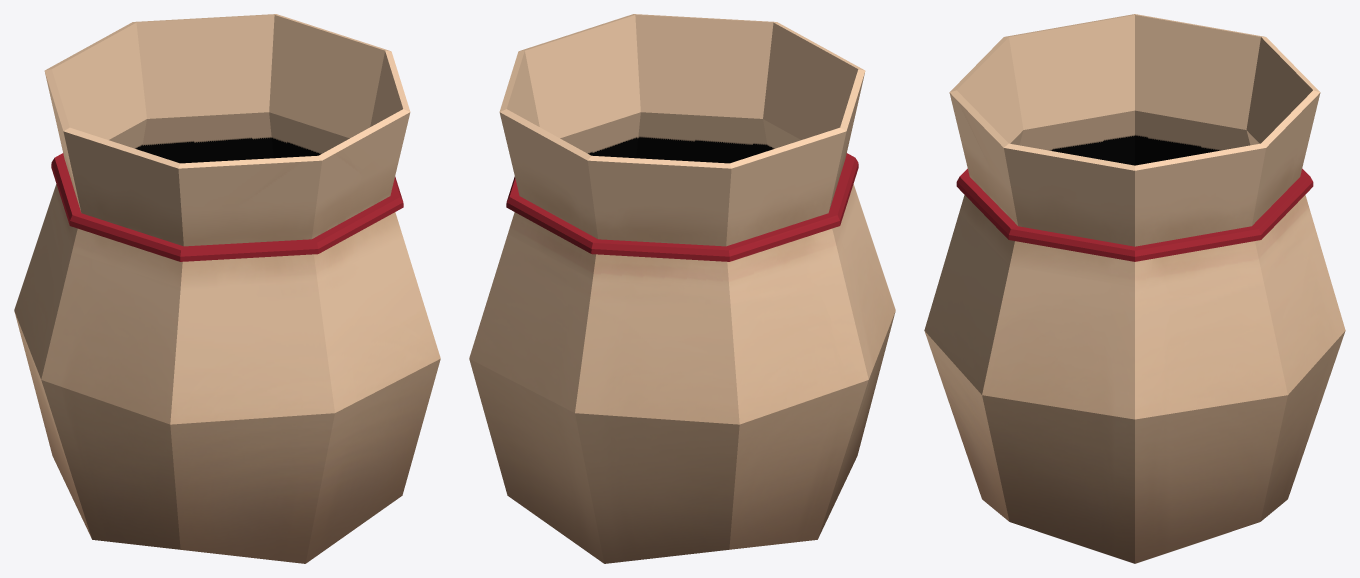
Rendered from bag_animated.fbx.
3 renders of one model, left to right at view 1: azimuth 30°, elevation 25°; view 2: azimuth 150°, elevation 25°; view 3: azimuth 270°, elevation 25°, orthographic. The views are drawn at different scales.
Visible parts, largest first — view 1: Bag_model; view 2: Bag_model; view 3: Bag_model.
Boxes of the visible parts, bbox=[...] form: Bag_model: bbox=[14, 14, 440, 563]; Bag_model: bbox=[469, 14, 895, 563]; Bag_model: bbox=[924, 14, 1345, 563].
Bounding box in the file's own units: 207 × 237 × 207.
